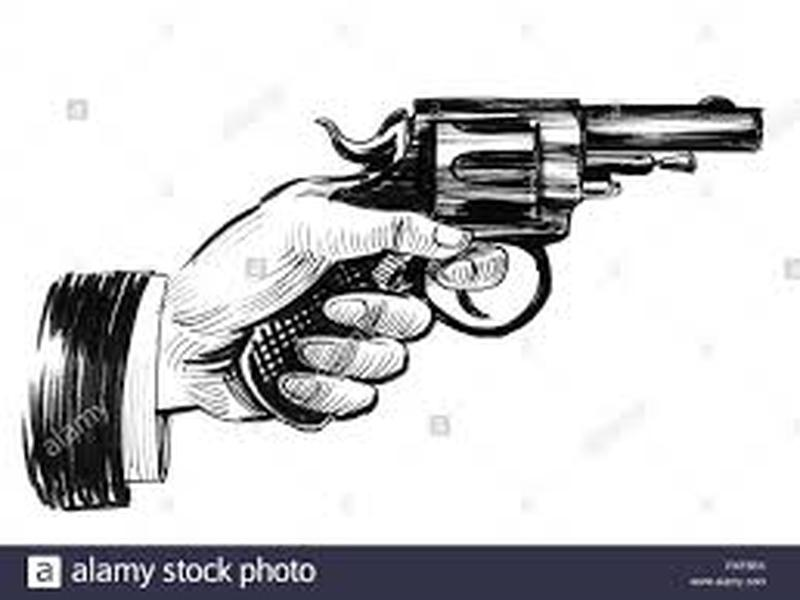gun: (28, 94, 800, 488)
